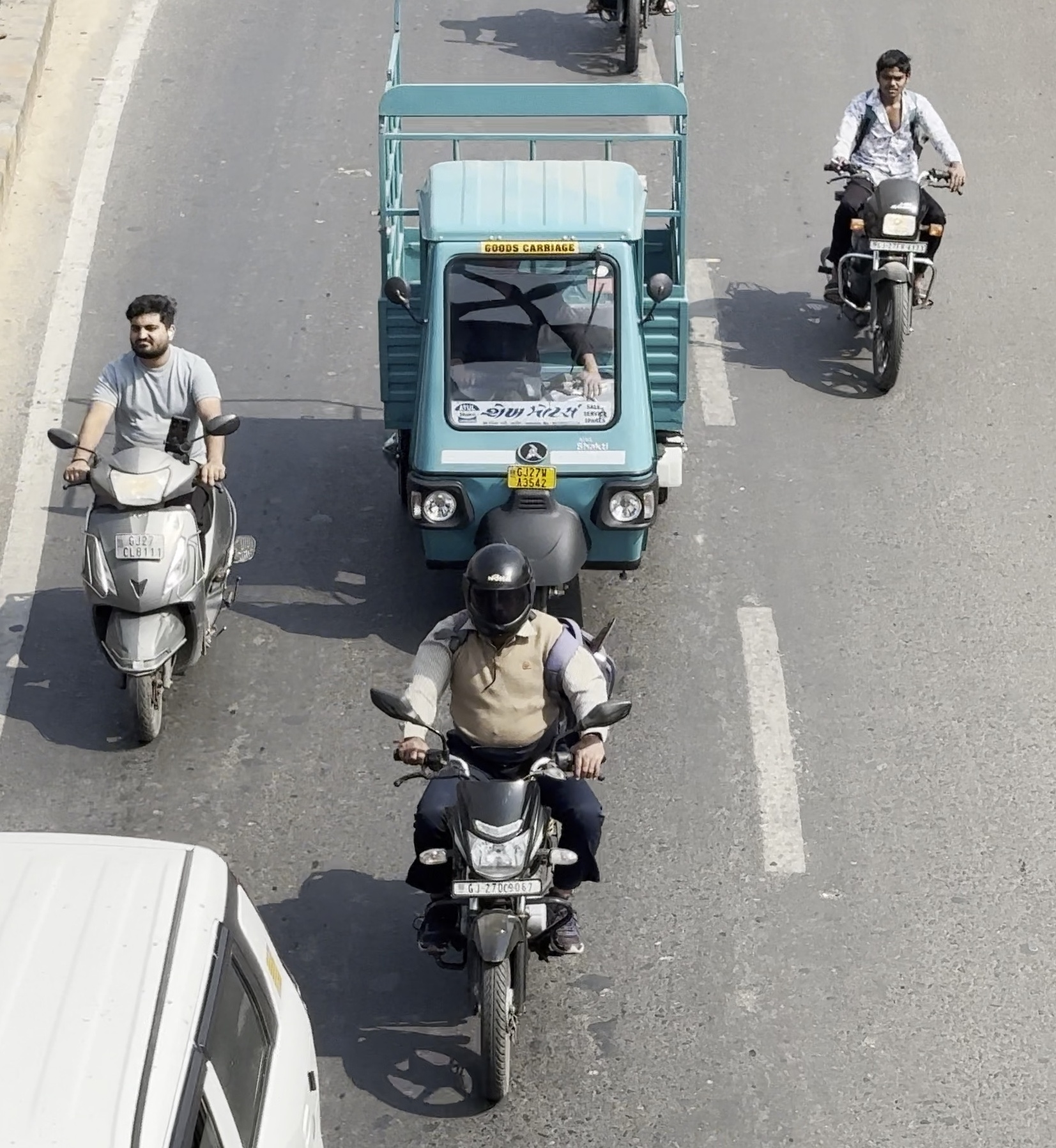BikeWithRider: (356, 536, 639, 1109), (38, 285, 263, 750), (803, 35, 983, 405)
Helmet: (450, 535, 543, 646)
NoHelmet: (116, 286, 183, 362), (867, 44, 918, 108)
